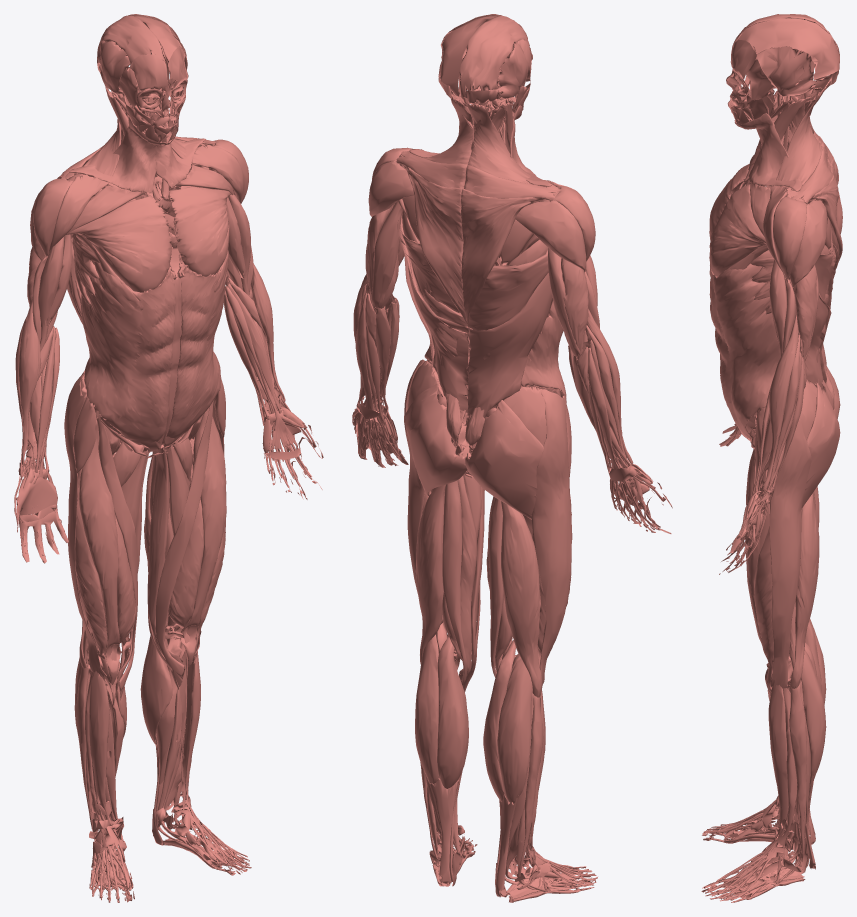
Rendered from muscoli.glb.
The picture shows the model from 3 angles, left to right: view 1: azimuth 30°, elevation 25°; view 2: azimuth 150°, elevation 25°; view 3: azimuth 270°, elevation 25°; orthographic projection. The views are drawn at different scales.
Parts seen in each view (by area): view 1: FJ1452, FJ1452M, FJ1464, FJ1433, FJ1464M, FJ1433M, FJ1434M, FJ1587, FJ1423, FJ1421M, FJ1442, FJ1434 (+43 smaller); view 2: ZA0502, FJ1423, FJ1418, FJ1395, FJ1520M, ZA0501, FJ1520, FJ1418M, FJ1394, FJ1397M, FJ1395M, ZA0438 (+37 smaller); view 3: FJ1452M, FJ1423M, ZA0437, FJ1464M, FJ1395M, FJ1418M, ZA0677, ZA0501, FJ1558, FJ1467M, FJ1439M, FJ1521M (+37 smaller).
Boxes of the visible parts, box(x1,y1,x2,y2) form: FJ1452: box(80, 262, 175, 444); FJ1452M: box(163, 250, 229, 444); FJ1464: box(66, 195, 171, 292); FJ1433: box(79, 420, 120, 684); FJ1464M: box(169, 186, 231, 276); FJ1433M: box(180, 407, 226, 666); FJ1434M: box(155, 400, 213, 686); FJ1587: box(69, 117, 167, 193); FJ1423: box(64, 373, 107, 686); FJ1421M: box(147, 448, 183, 663); FJ1442: box(75, 468, 111, 683); FJ1434: box(94, 410, 137, 700); ZA0502: box(466, 249, 552, 425); FJ1423: box(531, 389, 571, 690); FJ1418: box(465, 400, 543, 519); FJ1395: box(501, 501, 542, 697); FJ1520M: box(405, 166, 467, 324); ZA0501: box(397, 213, 468, 425); FJ1520: box(461, 188, 544, 326); FJ1418M: box(405, 383, 467, 495); FJ1394: box(497, 659, 532, 803); FJ1397M: box(437, 637, 468, 788); FJ1395M: box(416, 484, 445, 664); ZA0438: box(458, 15, 528, 97); FJ1452M: box(709, 263, 780, 438); FJ1423M: box(769, 416, 811, 695); ZA0437: box(736, 18, 839, 80); FJ1464M: box(709, 184, 766, 276); FJ1395M: box(790, 493, 819, 688); FJ1418M: box(801, 382, 840, 507); ZA0677: box(756, 46, 817, 96); ZA0501: box(805, 243, 839, 388); FJ1558: box(734, 113, 802, 191); FJ1467M: box(773, 196, 806, 279); FJ1439M: box(751, 685, 788, 864); FJ1521M: box(776, 88, 824, 185).
Size of the model in its own units: 0.6542 by 1.71 by 0.2591.
